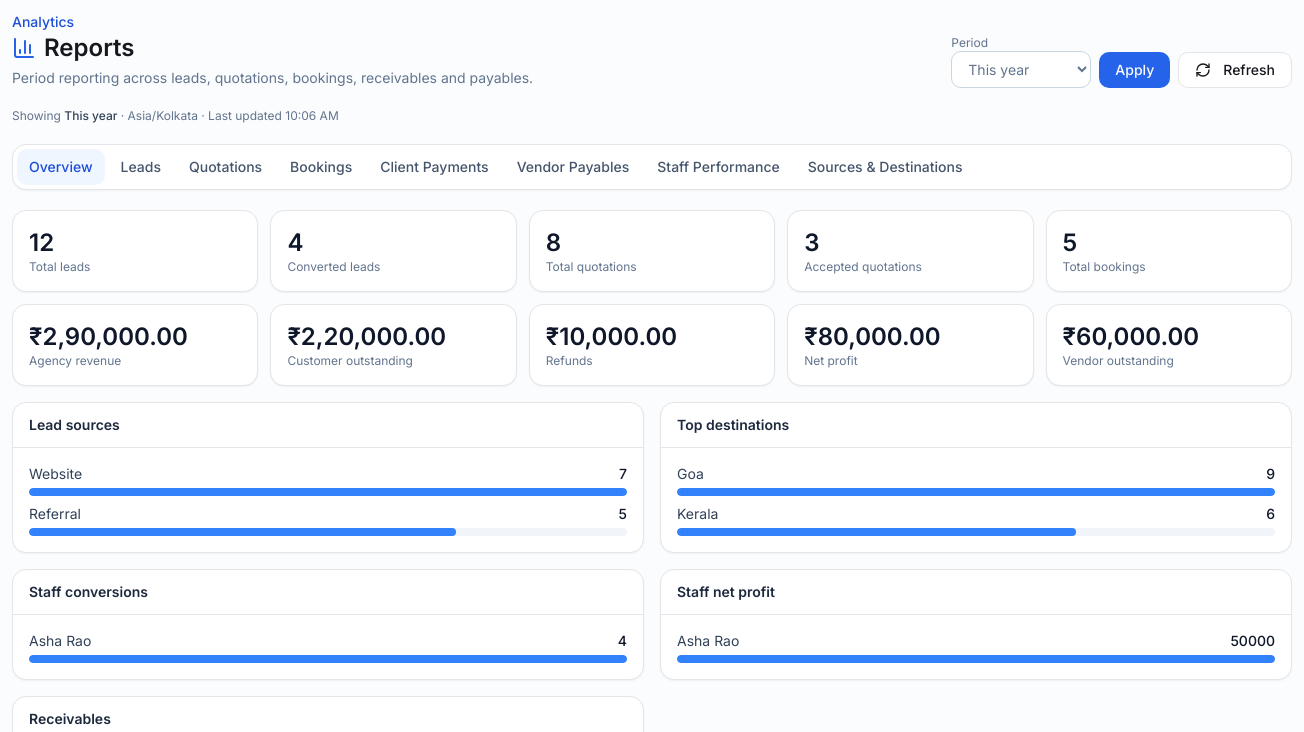
Scenario: Phase 19 reports tabs › renders the Bookings tab with financial columns when permitted
Click the button "Bookings". click: (321, 167)
box: [278,149,364,185]
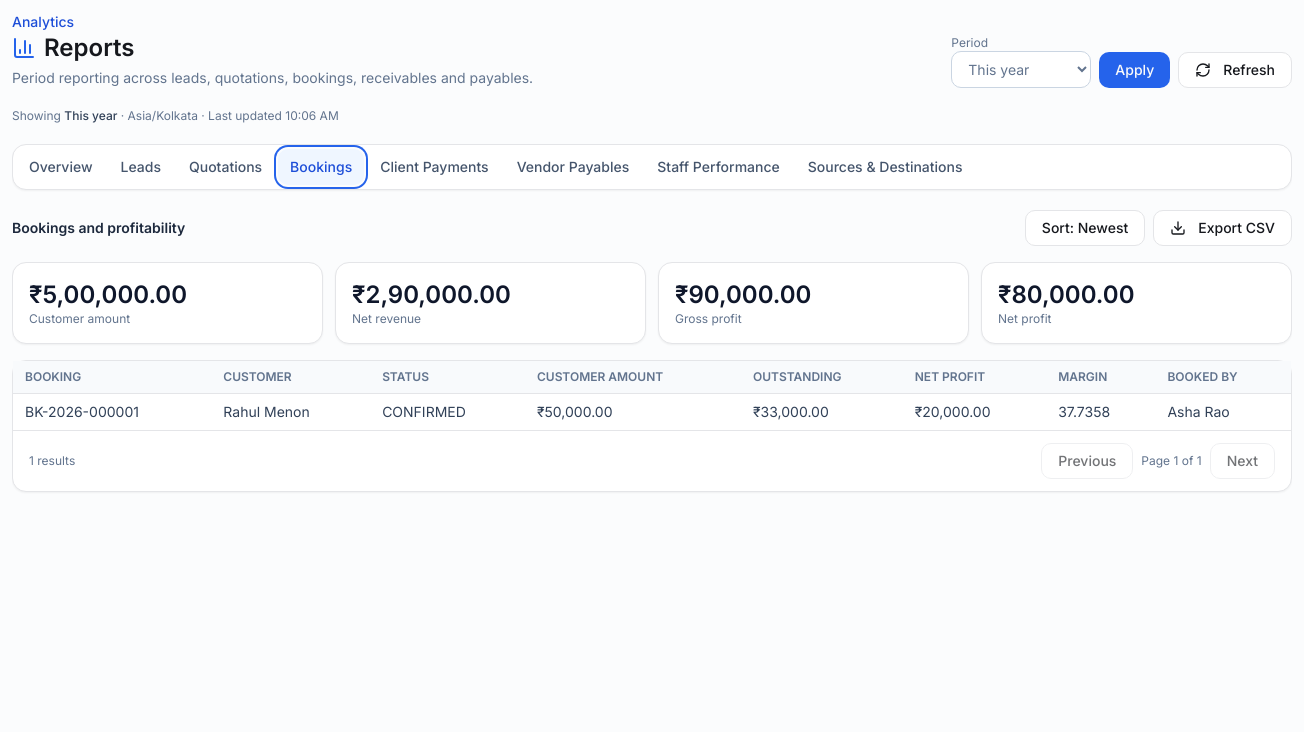
Check: the text "BK-2026-000001" is shown, box [13,394,211,430]
Check: the column heading "Customer Amount" is shown, box [525,361,741,394]
Check: the column heading "Margin" is shown, box [1046,361,1155,394]
